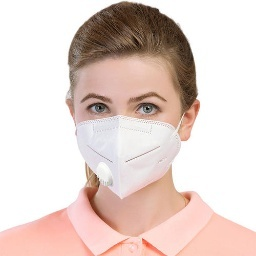correctlyWear: (64, 64, 200, 200)
